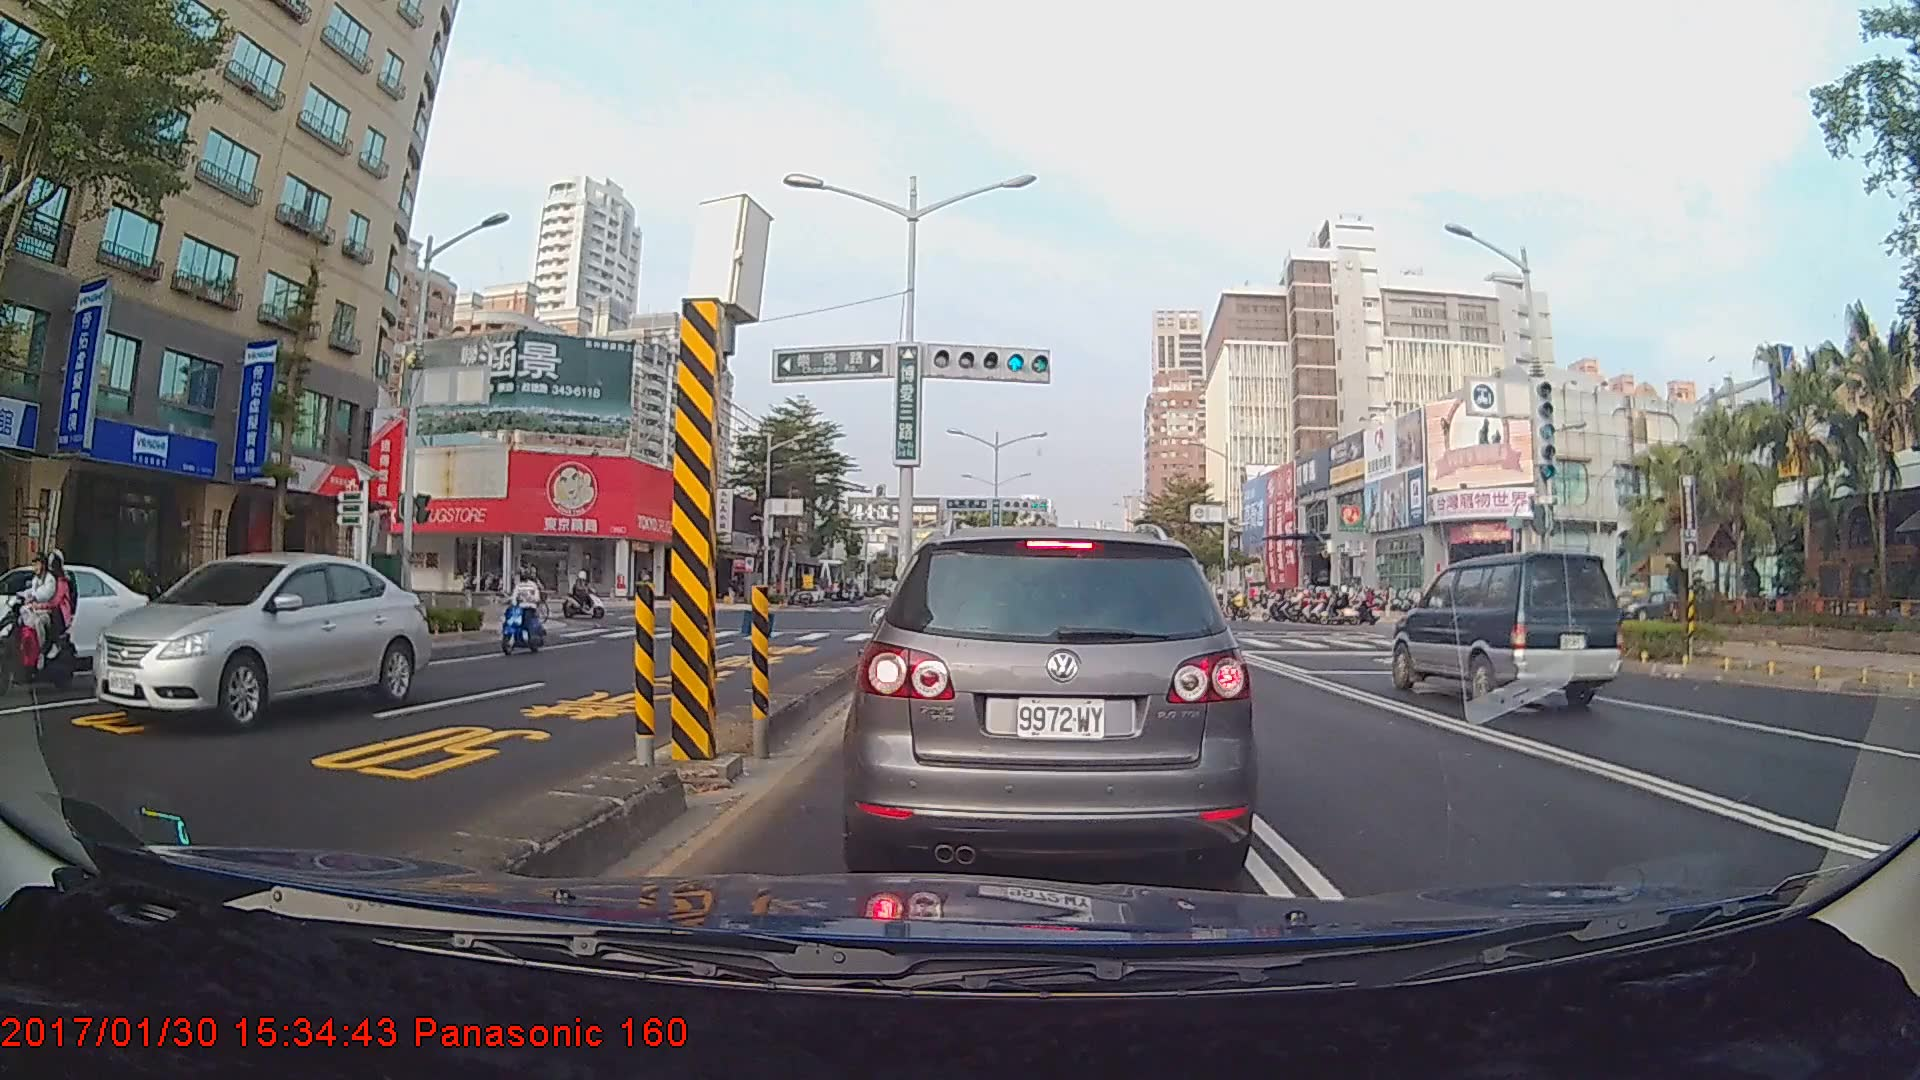rider: (1, 549, 91, 695), (498, 562, 553, 661), (561, 569, 606, 616)
vehicle: (852, 522, 1250, 883), (90, 552, 432, 729), (1390, 549, 1624, 710), (0, 561, 157, 671)
